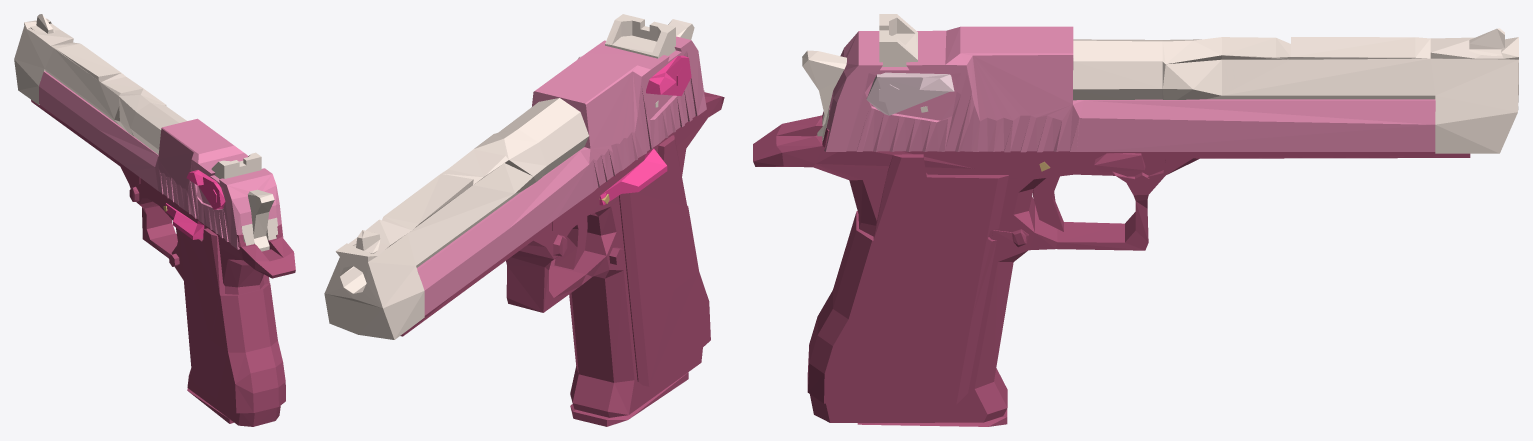
File: Pistol_DesertEagle.obj
3 views of the same model, side by side, from view 1: azimuth 30°, elevation 25°; view 2: azimuth 150°, elevation 25°; view 3: azimuth 270°, elevation 25° (orthographic). The views are drawn at different scales.
Visible parts, largest first — view 1: Grip, Body, Panel, Mag, Accent; view 2: Panel, Body, Mag, Grip, Accent; view 3: Body, Panel, Grip, Mag, Slide.
Boxes of the visible parts, box(x1,y1,x2,y2) form: Grip: box(180, 228, 285, 413); Body: box(39, 71, 283, 249); Panel: box(14, 14, 277, 251); Mag: box(31, 100, 295, 426); Accent: box(164, 170, 242, 239); Panel: box(324, 14, 694, 339); Body: box(417, 36, 706, 315); Mag: box(400, 90, 724, 426); Grip: box(619, 135, 710, 386); Accent: box(599, 55, 691, 205); Body: box(824, 26, 1435, 152); Panel: box(802, 14, 1518, 153); Grip: box(807, 154, 1008, 404); Mag: box(753, 111, 1470, 426); Slide: box(866, 72, 954, 115).
Size of the model in its own units: 0.2233 by 0.8374 by 1.5.
